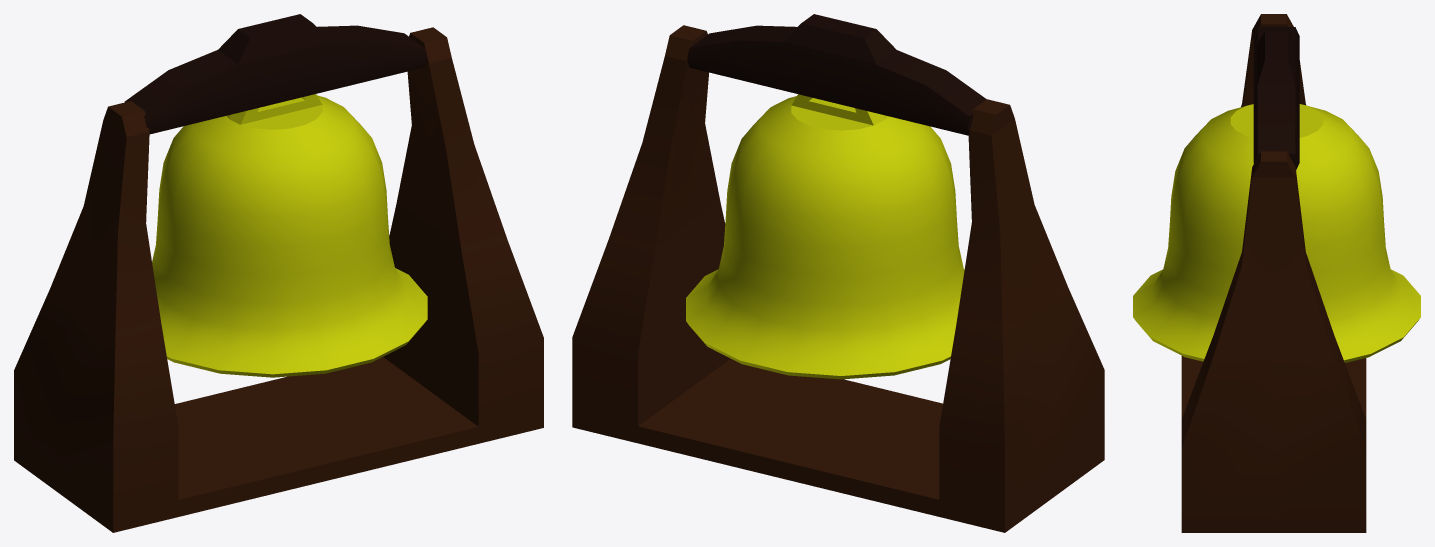
File: Bell.FBX
3 renders of one model, left to right at view 1: azimuth 30°, elevation 25°; view 2: azimuth 150°, elevation 25°; view 3: azimuth 270°, elevation 25°, orthographic. The views are drawn at different scales.
Parts seen in each view (by area): view 1: Frame, Body, Holder; view 2: Frame, Body, Holder; view 3: Frame, Body, Holder.
Part boxes in pixels (x1,y1,x2,y2): Frame: (14,27,543,532); Body: (152,94,427,377); Holder: (124,14,426,134); Frame: (572,25,1104,532); Body: (686,94,964,379); Holder: (687,14,986,135); Frame: (1181,14,1366,532); Body: (1133,104,1420,362); Holder: (1253,27,1299,170).
Size of the model in its own units: 2.97 by 2.75 by 1.85.
